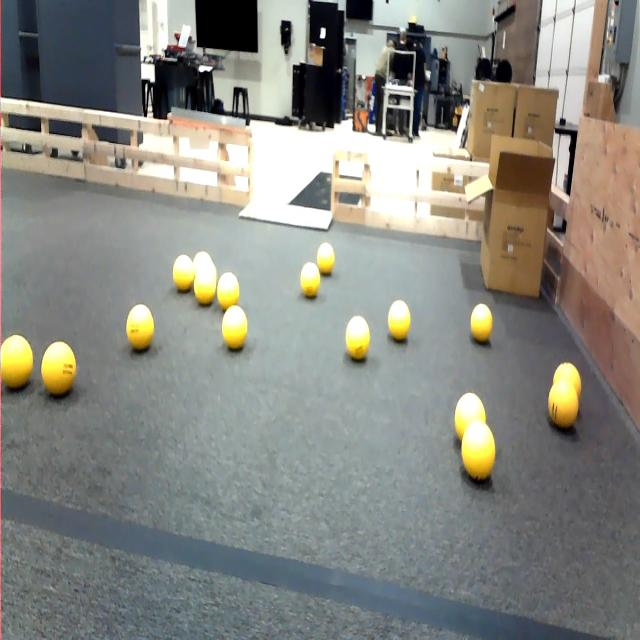fuel: (2, 319, 36, 414), (39, 328, 83, 400), (460, 420, 501, 492), (122, 294, 161, 360), (340, 315, 383, 362), (452, 392, 491, 438), (388, 289, 415, 352), (222, 300, 248, 360), (549, 377, 579, 427), (468, 299, 498, 348), (193, 256, 219, 308), (551, 354, 585, 387), (216, 269, 241, 311), (173, 253, 197, 294), (300, 260, 322, 299), (189, 246, 215, 278), (316, 237, 334, 279)
